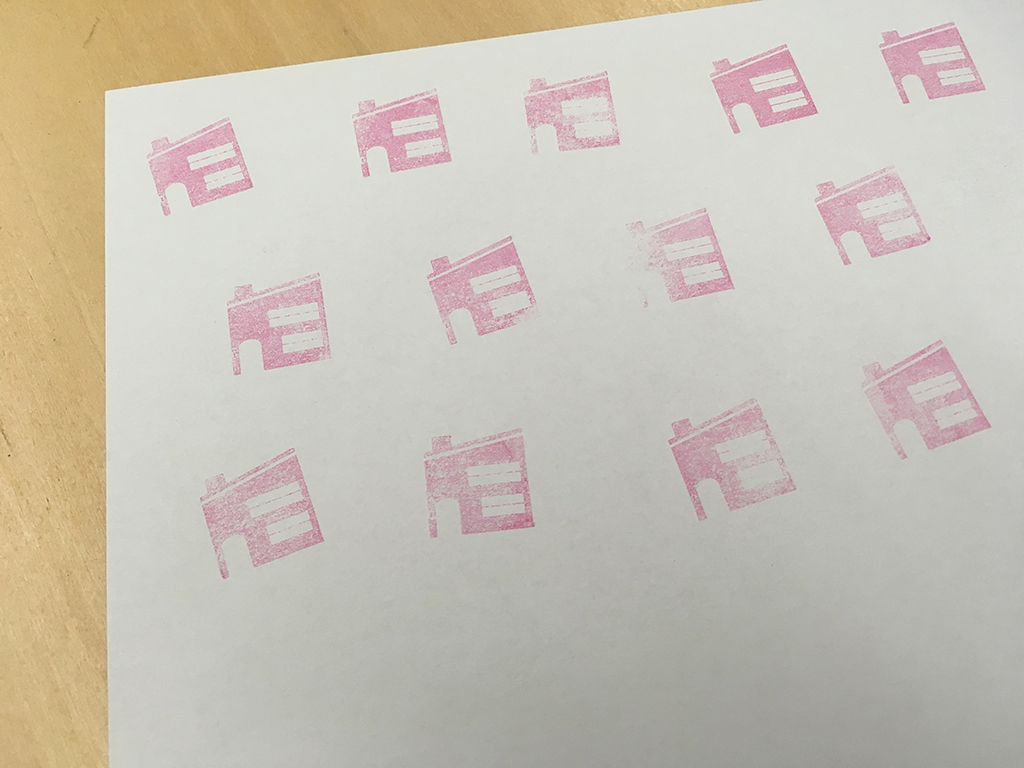house: (653, 389, 809, 531), (186, 440, 330, 589), (846, 333, 997, 473), (606, 196, 743, 323), (133, 111, 268, 231), (420, 225, 547, 351), (213, 266, 336, 394), (415, 422, 543, 544), (805, 158, 938, 275), (343, 84, 464, 192), (513, 62, 633, 167), (694, 39, 824, 134), (876, 11, 994, 111)
